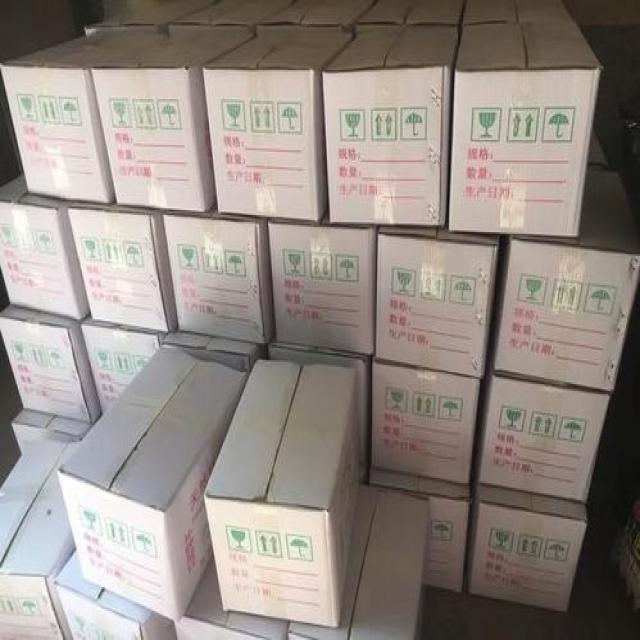box: (60, 343, 246, 624), (204, 359, 360, 630), (446, 24, 602, 235), (492, 167, 638, 391), (94, 26, 259, 210), (204, 28, 358, 225), (1, 28, 164, 203), (322, 26, 461, 228), (285, 481, 431, 638), (368, 223, 503, 379), (475, 352, 613, 502), (464, 480, 589, 614), (0, 439, 82, 638), (269, 207, 377, 357), (163, 204, 276, 346), (65, 199, 177, 334), (259, 341, 372, 469), (365, 462, 474, 592), (372, 359, 483, 485), (0, 169, 88, 321), (0, 303, 103, 420), (56, 553, 174, 638), (174, 557, 289, 638), (82, 309, 167, 416), (165, 325, 268, 374), (12, 405, 108, 457), (85, 0, 218, 29), (611, 479, 639, 613), (171, 1, 291, 28), (260, 1, 376, 28), (458, 1, 576, 27), (349, 1, 467, 26), (590, 128, 611, 167)
